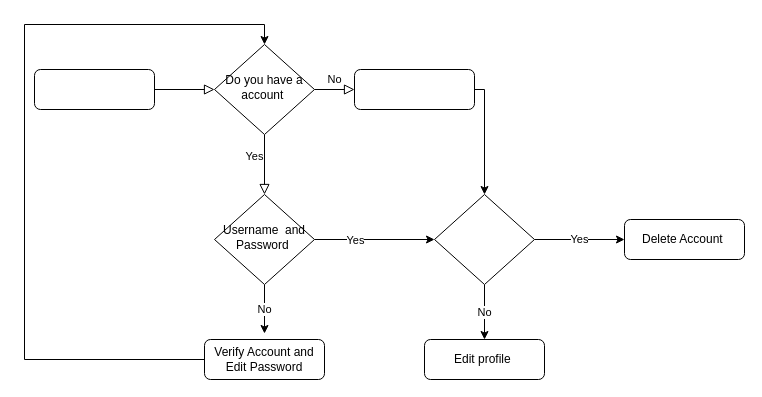
Some shapes in this 762 by 397 pixel diagram are drawn without their labels. Each missing label, with the centre of its shape:
Connect to PopcornReview: (94,89)
create account: (414,89)
Modify account: (484,239)
